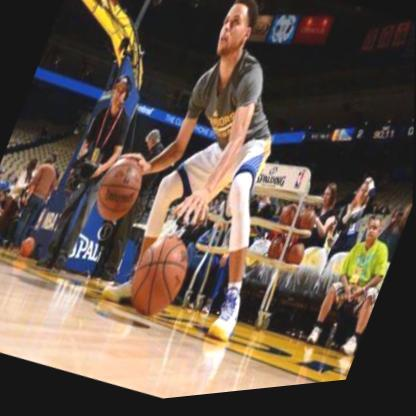basketball: (121, 229, 199, 330), (89, 152, 151, 232)
